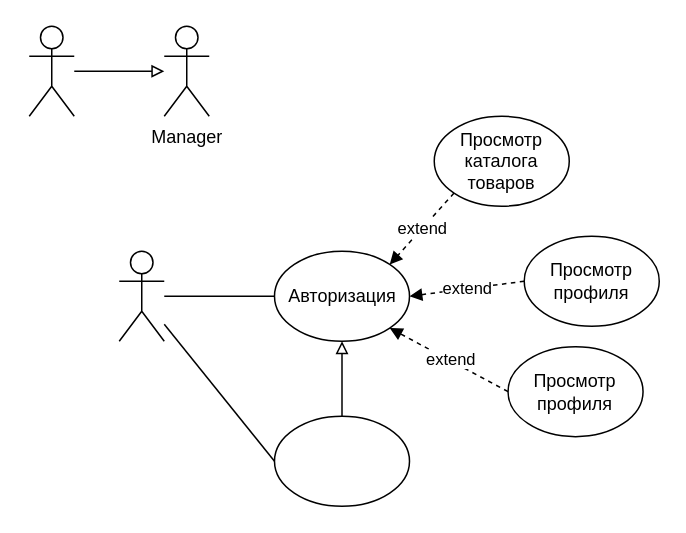
Some shapes in this 686 by 533 pixel diagram are drawn without their labels. Here are the shapes that lost their labels. From the top down, the box of each, then its label:
(28, 25, 74, 116): Admin
(118, 250, 164, 341): Customer
(273, 415, 410, 506): Регистрация
